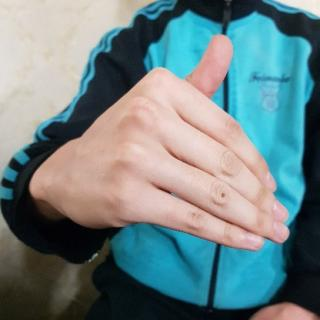KHAA: (35, 30, 292, 263)
